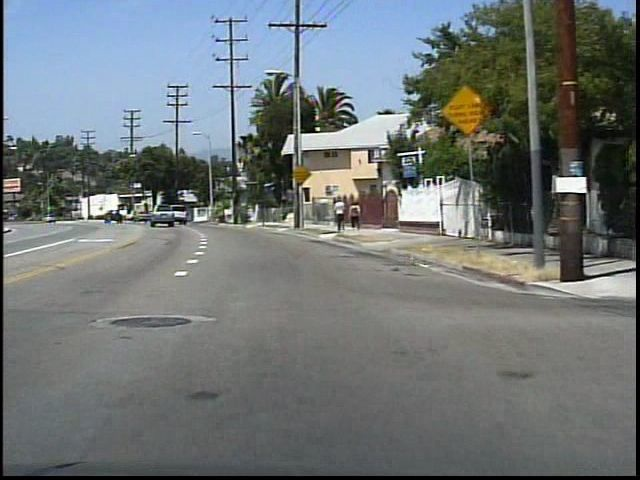person: (332, 196, 349, 235), (346, 201, 362, 232)
